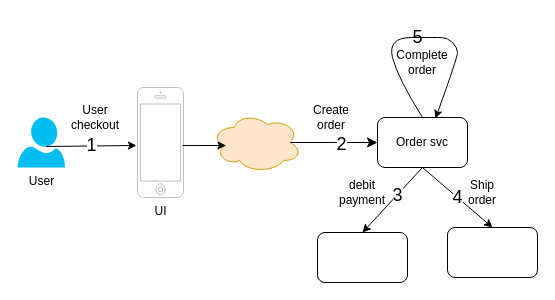
The diagram is 555 pixels wide and 300 high, and some of its shapes have lost their labels. Each missing label, with the centre of its shape:
"Payment svc" goes at pixel 362 257.
"Shipment svc" goes at pixel 492 252.
